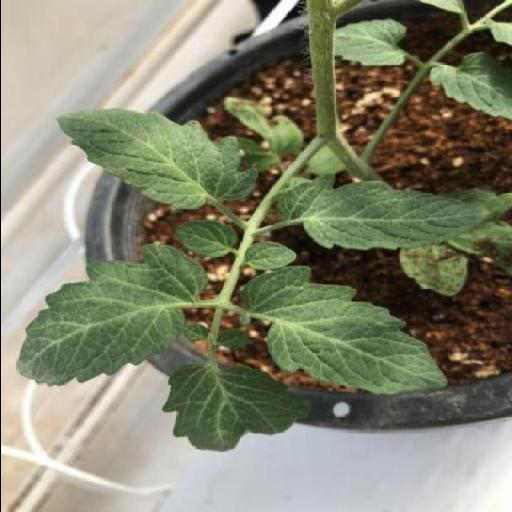Healthy: (16, 244, 208, 387), (240, 266, 446, 394), (56, 108, 258, 210), (276, 173, 488, 249), (162, 364, 308, 453)
